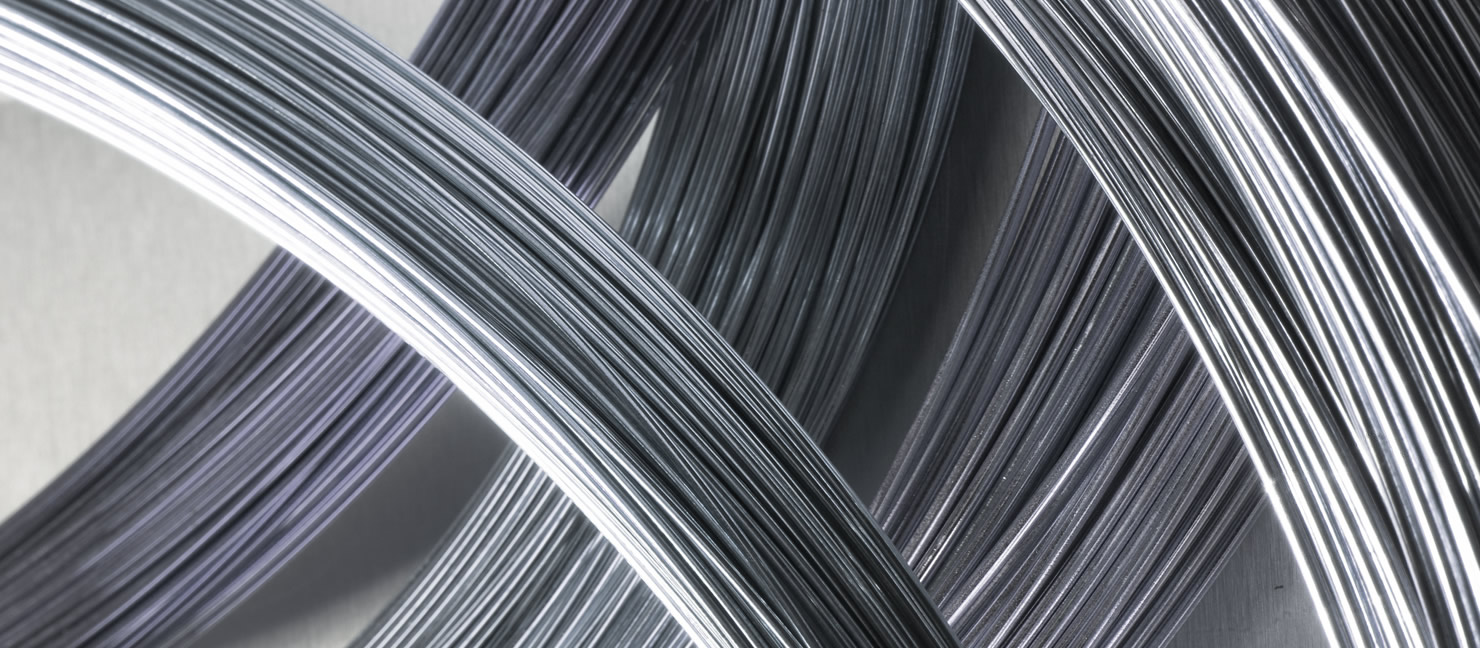Nonrec_Tangler: (15, 1, 1471, 614)
